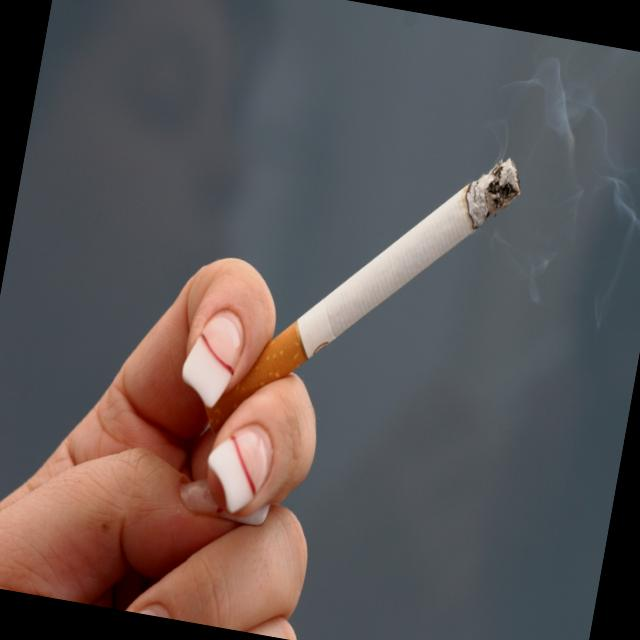cigarette: (204, 110, 524, 473)
